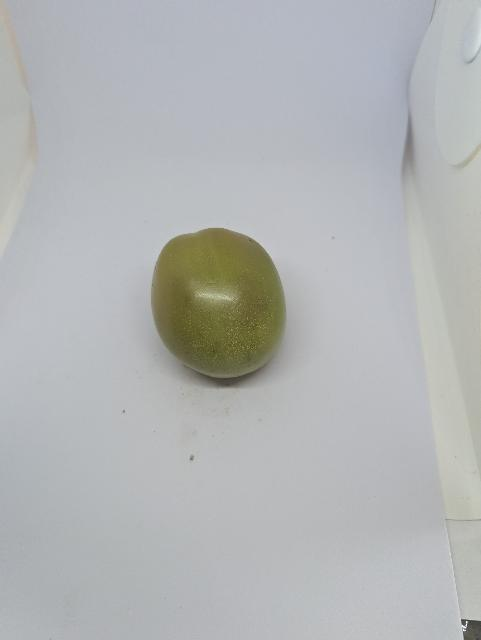green: (133, 208, 298, 392)
